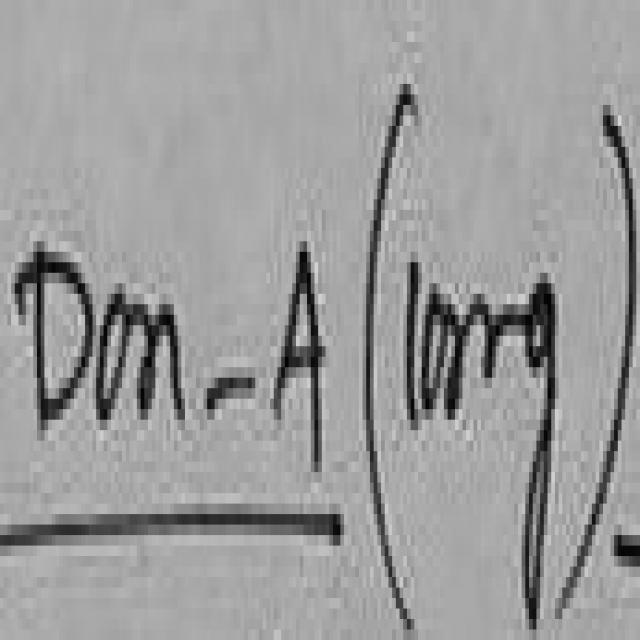0: (425, 294, 451, 404)
1: (407, 262, 422, 430)
A: (274, 252, 326, 467)
D: (15, 252, 92, 425)
g: (525, 283, 559, 624)
m: (446, 277, 531, 422)
n: (133, 304, 185, 420)
o: (96, 294, 129, 420)
